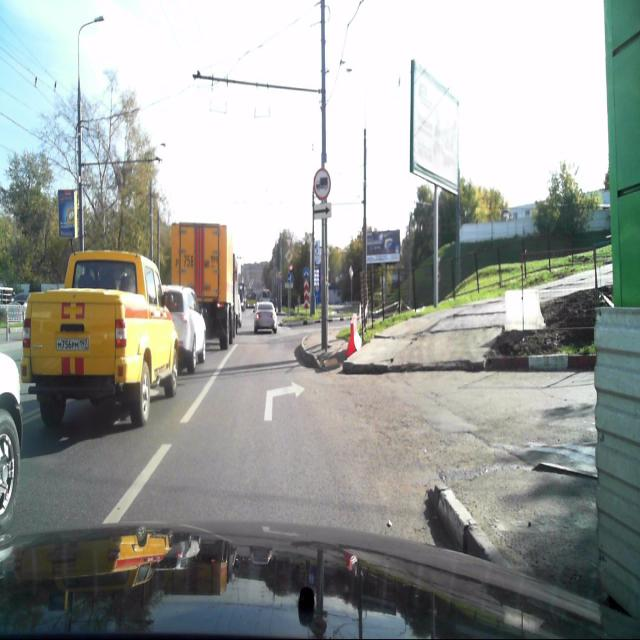road sign: (314, 202, 332, 217)
